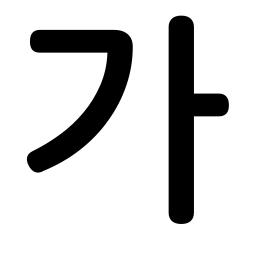Gaji: (155, 79, 215, 134)
